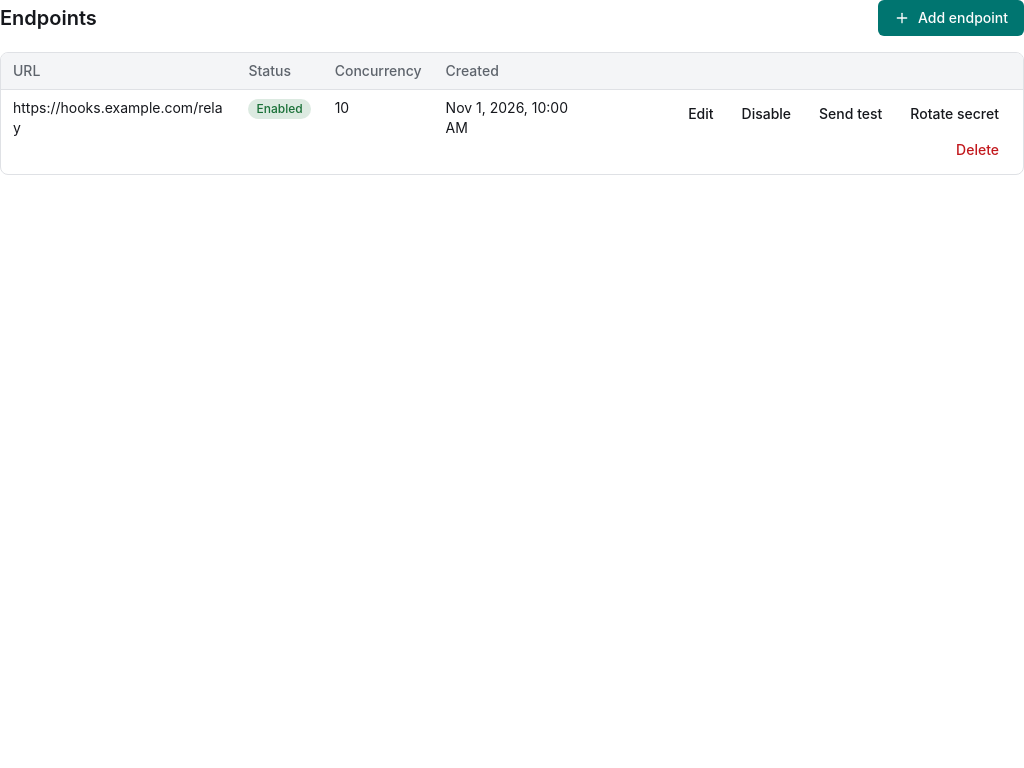
Test: endpoints: rotate › shows a rotation already in progress as a problem
The image size is (1024, 768).
Expected: the link "https://hooks.example.com/relay" is shown, 13,99 -> 223,136
What coordinates should you click on to do the following:
click the button "Rotate secret"
I would click on:
 (955, 114)
Its box is 898,98 -> 1011,130.
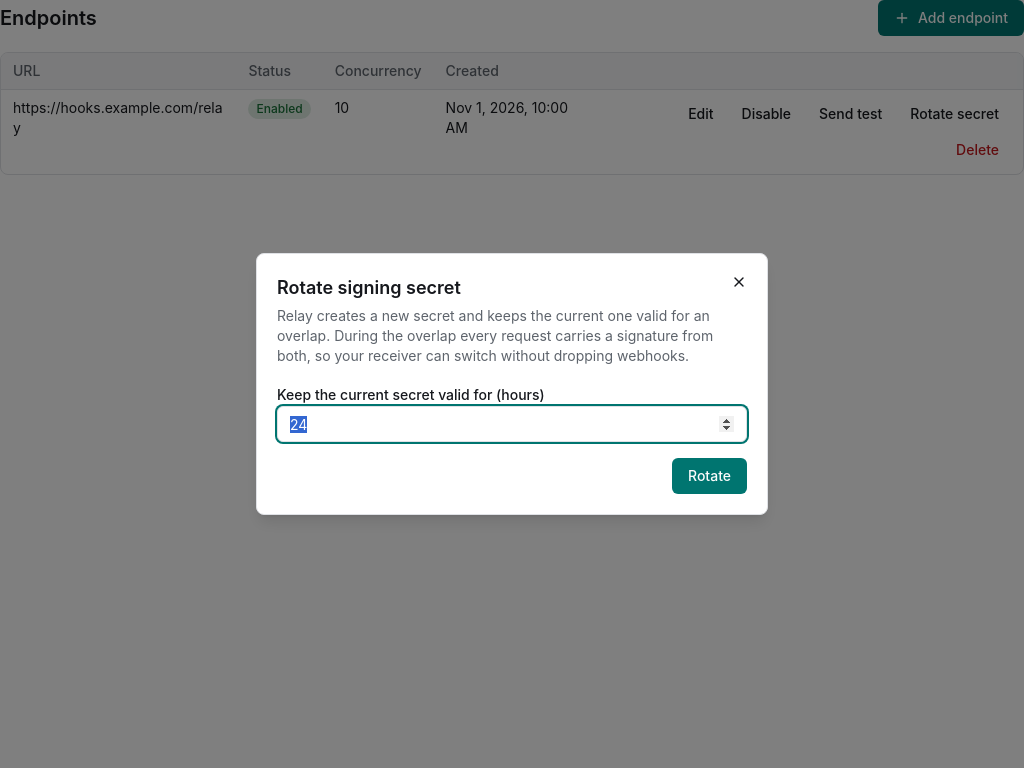
What coordinates should you click on to do the following:
click the button "Rotate"
I would click on:
 (710, 476)
Its box is 672,458 -> 747,494.
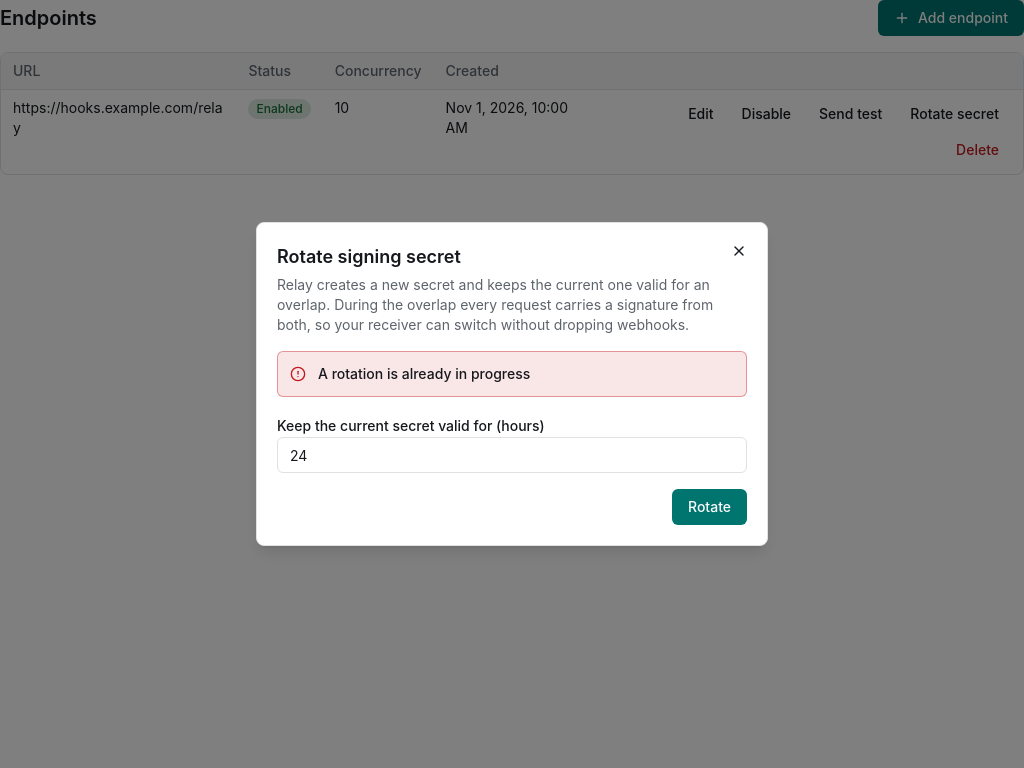
Result: the message reads "A rotation is already in progress" at 318,365 -> 530,382
